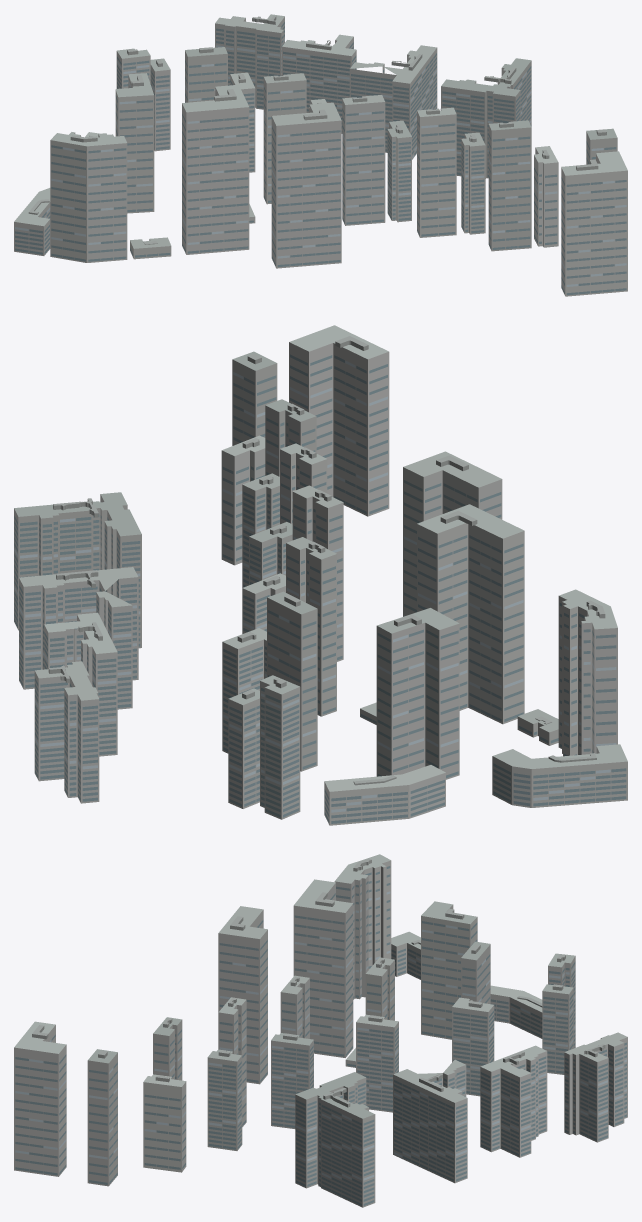
File: apt-a10025203.glb
3 renders of one model, top to bottom at view 1: azimuth 30°, elevation 25°; view 2: azimuth 150°, elevation 25°; view 3: azimuth 270°, elevation 25°, orthographic. The views are drawn at different scales.
Visible parts, largest first — view 1: apt-a10025203; view 2: apt-a10025203; view 3: apt-a10025203.
Part boxes in pixels (bbox=[...]): apt-a10025203: bbox=[14, 14, 627, 296]; apt-a10025203: bbox=[14, 325, 627, 825]; apt-a10025203: bbox=[14, 854, 627, 1207].
Bounding box in the file's own units: 380 × 107 × 401.
